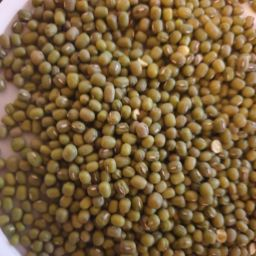Green gram dal(moong): (39, 1, 229, 256), (22, 23, 217, 201), (162, 3, 256, 256), (3, 27, 74, 256)
